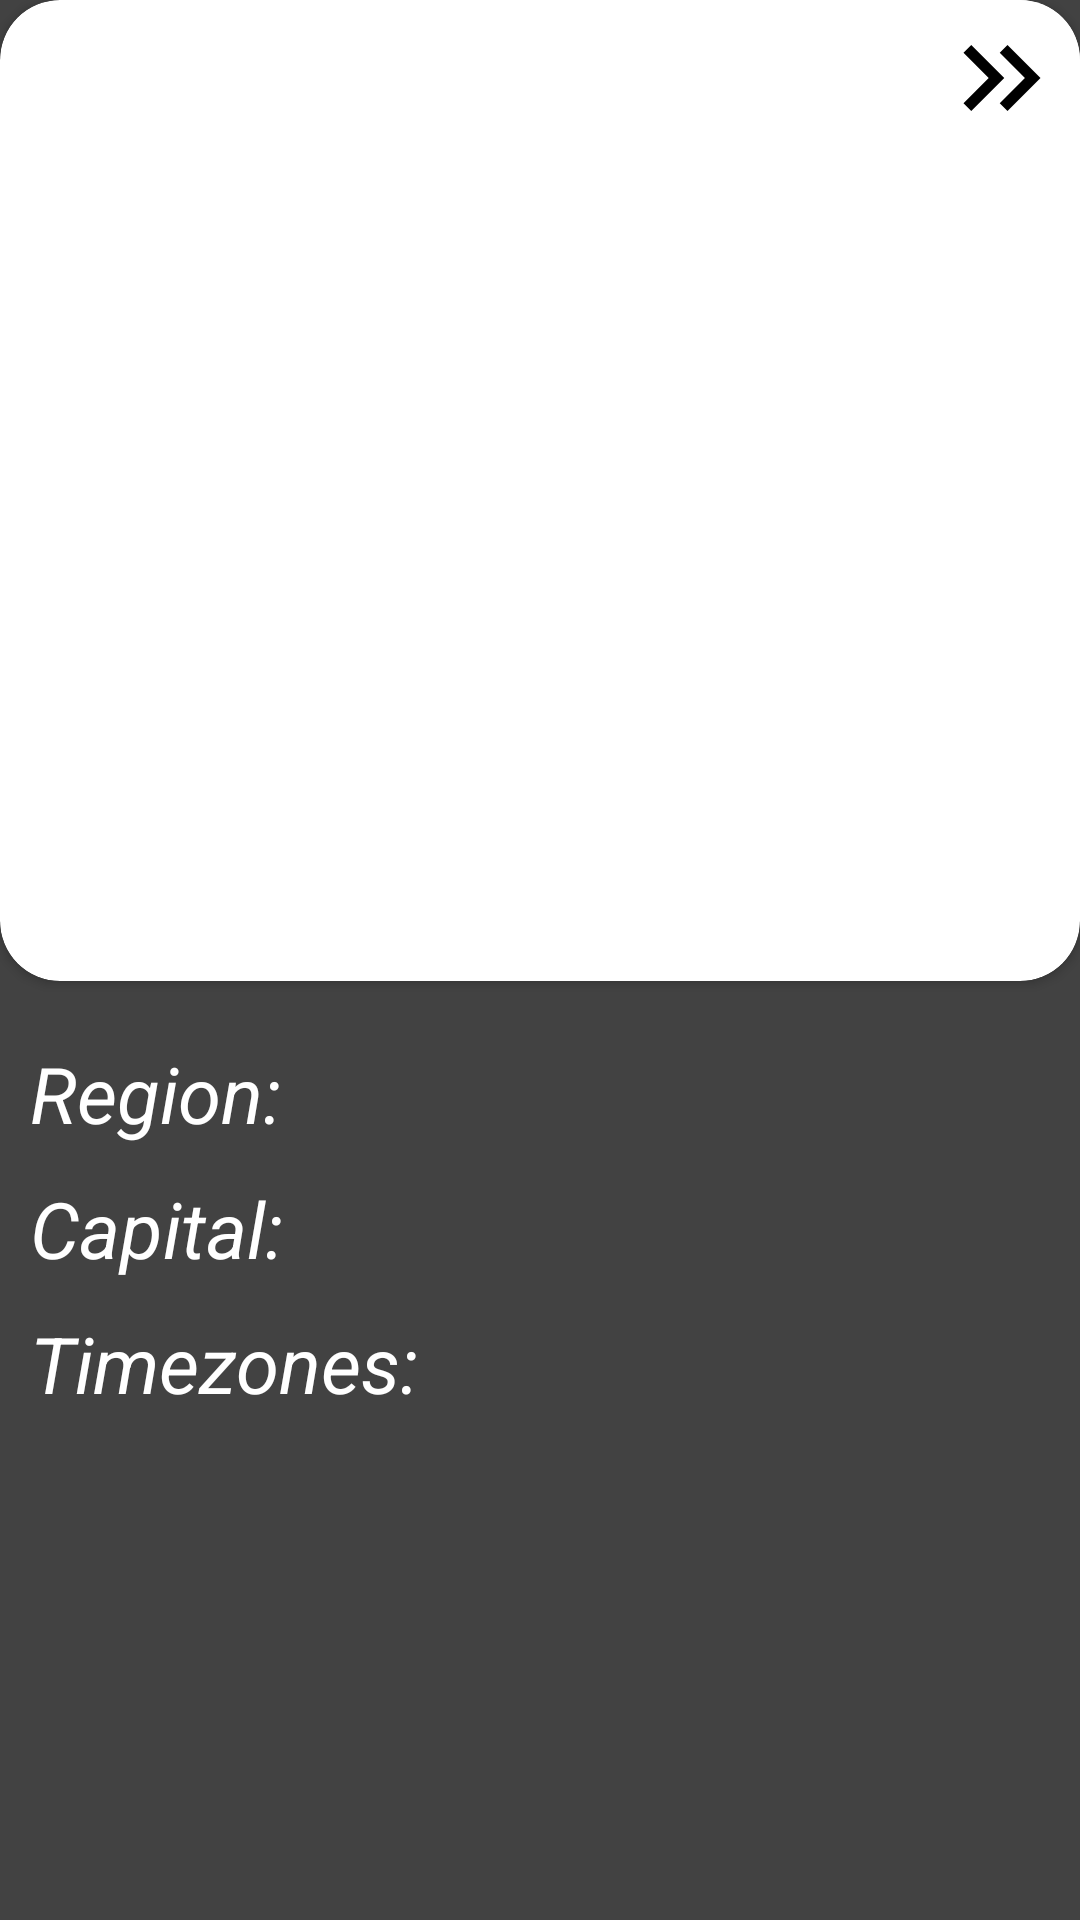

Where to tap for icons on this 1080px×1920px app screen, as (x,y):
to details character: (1002,78)
